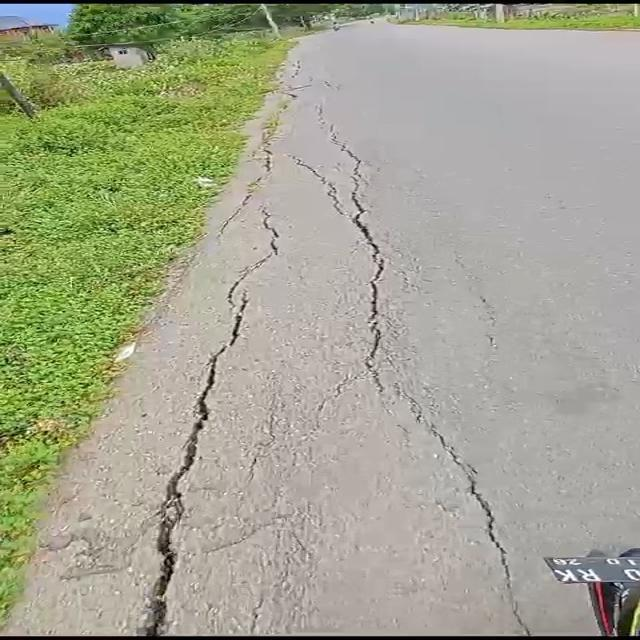Memanjang: (317, 122, 554, 640), (126, 207, 292, 640)
